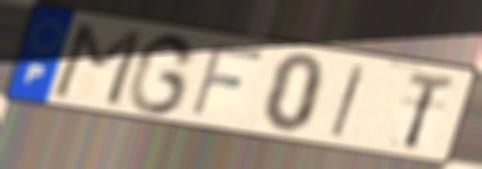0: (258, 50, 329, 135)
F: (186, 40, 269, 119)
G: (123, 31, 200, 117)
I: (327, 62, 371, 141)
M: (47, 20, 147, 110)
T: (400, 68, 459, 152)
